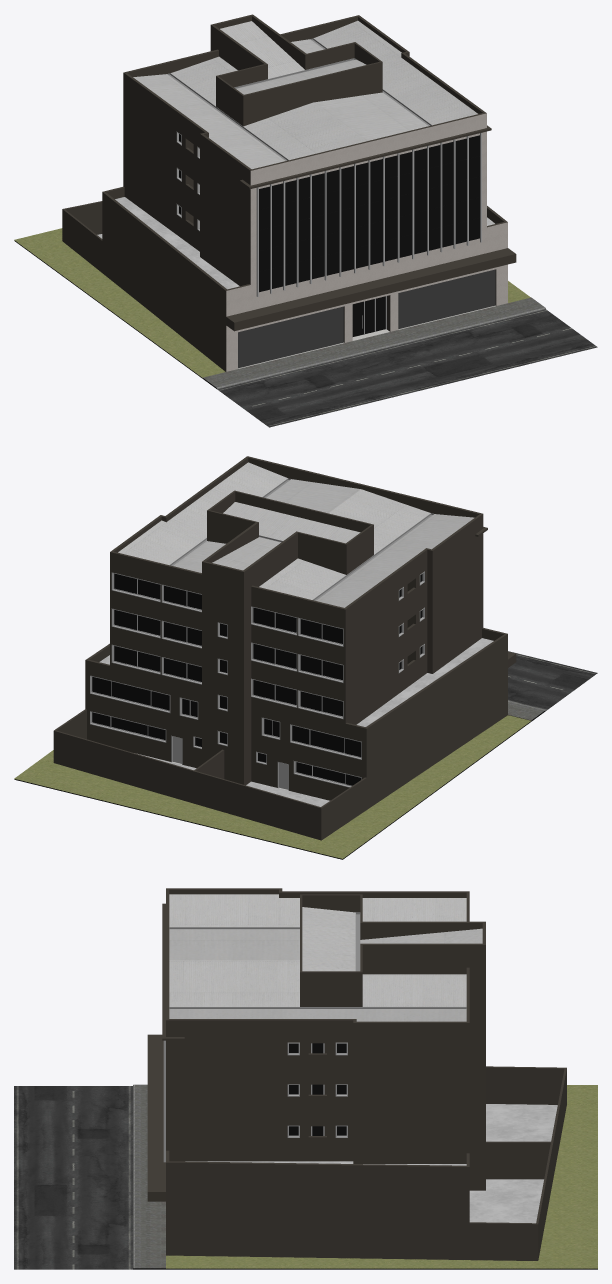
Rendered from Geraldo Tanus.fbx.
The picture shows the model from 3 angles, top to bottom: view 1: azimuth 30°, elevation 25°; view 2: azimuth 150°, elevation 25°; view 3: azimuth 270°, elevation 25°; orthographic projection. The views are drawn at different scales.
Visible parts, largest first — view 1: Line001, Box025, Box005, Shape001, Box026, Box027, Box028, Box034; view 2: Line001, Box005, Object001, Rectangle001, Box034; view 3: Line001, Box005, Object001, Box034, Rectangle001.
Part boxes in pixels (<box>): Line001: <box>14,14,597,427</box>; Box025: <box>259,135,479,292</box>; Box005: <box>133,20,477,169</box>; Shape001: <box>256,133,481,296</box>; Box026: <box>238,306,343,368</box>; Box027: <box>398,269,495,329</box>; Box028: <box>352,296,385,336</box>; Box034: <box>167,38,431,160</box>; Line001: <box>14,456,597,858</box>; Box005: <box>118,462,474,607</box>; Object001: <box>90,571,424,787</box>; Rectangle001: <box>14,711,545,859</box>; Box034: <box>169,478,433,600</box>; Line001: <box>14,888,597,1269</box>; Box005: <box>169,894,482,1021</box>; Object001: <box>287,1042,347,1137</box>; Box034: <box>169,912,466,1008</box>; Rectangle001: <box>133,1268,597,1269</box>.
Size of the model in its own units: 2805 by 1760 by 3772.
16 materials, 8 textured.
